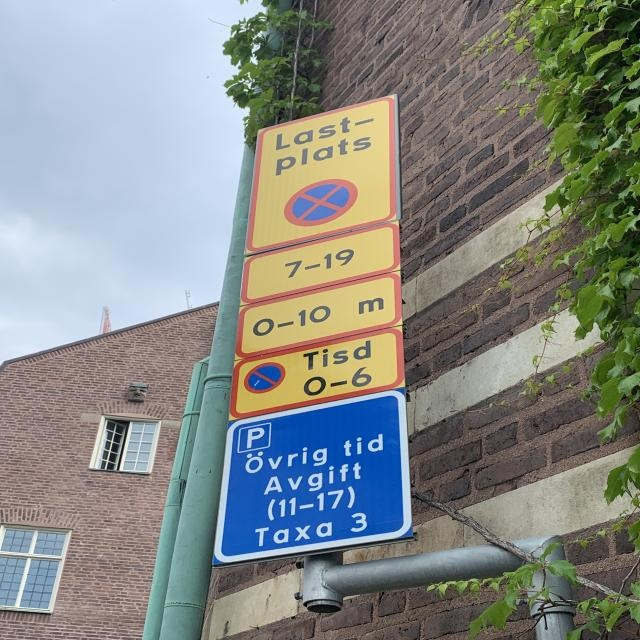lastplats: (235, 94, 405, 252)
